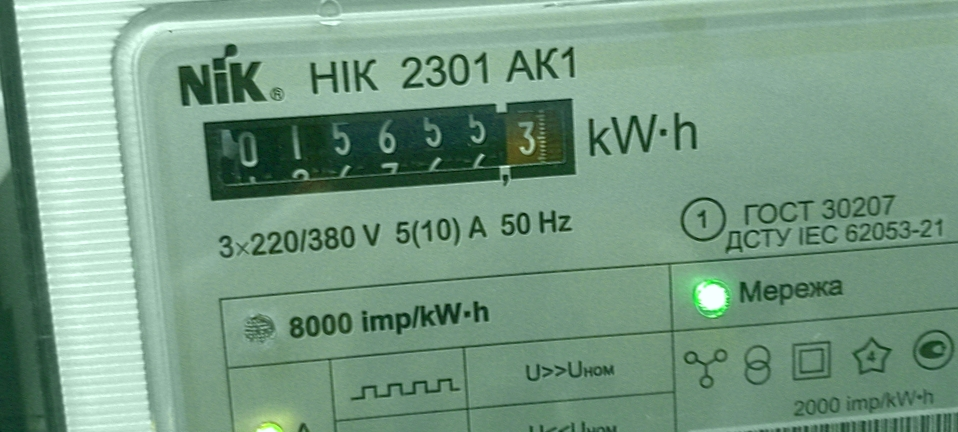0: (232, 125, 260, 168)
1: (284, 121, 305, 161)
3: (514, 117, 536, 154)
5: (326, 119, 353, 156), (419, 114, 444, 147), (466, 110, 487, 144)
6: (373, 116, 398, 154)
screen: (187, 76, 592, 216)
